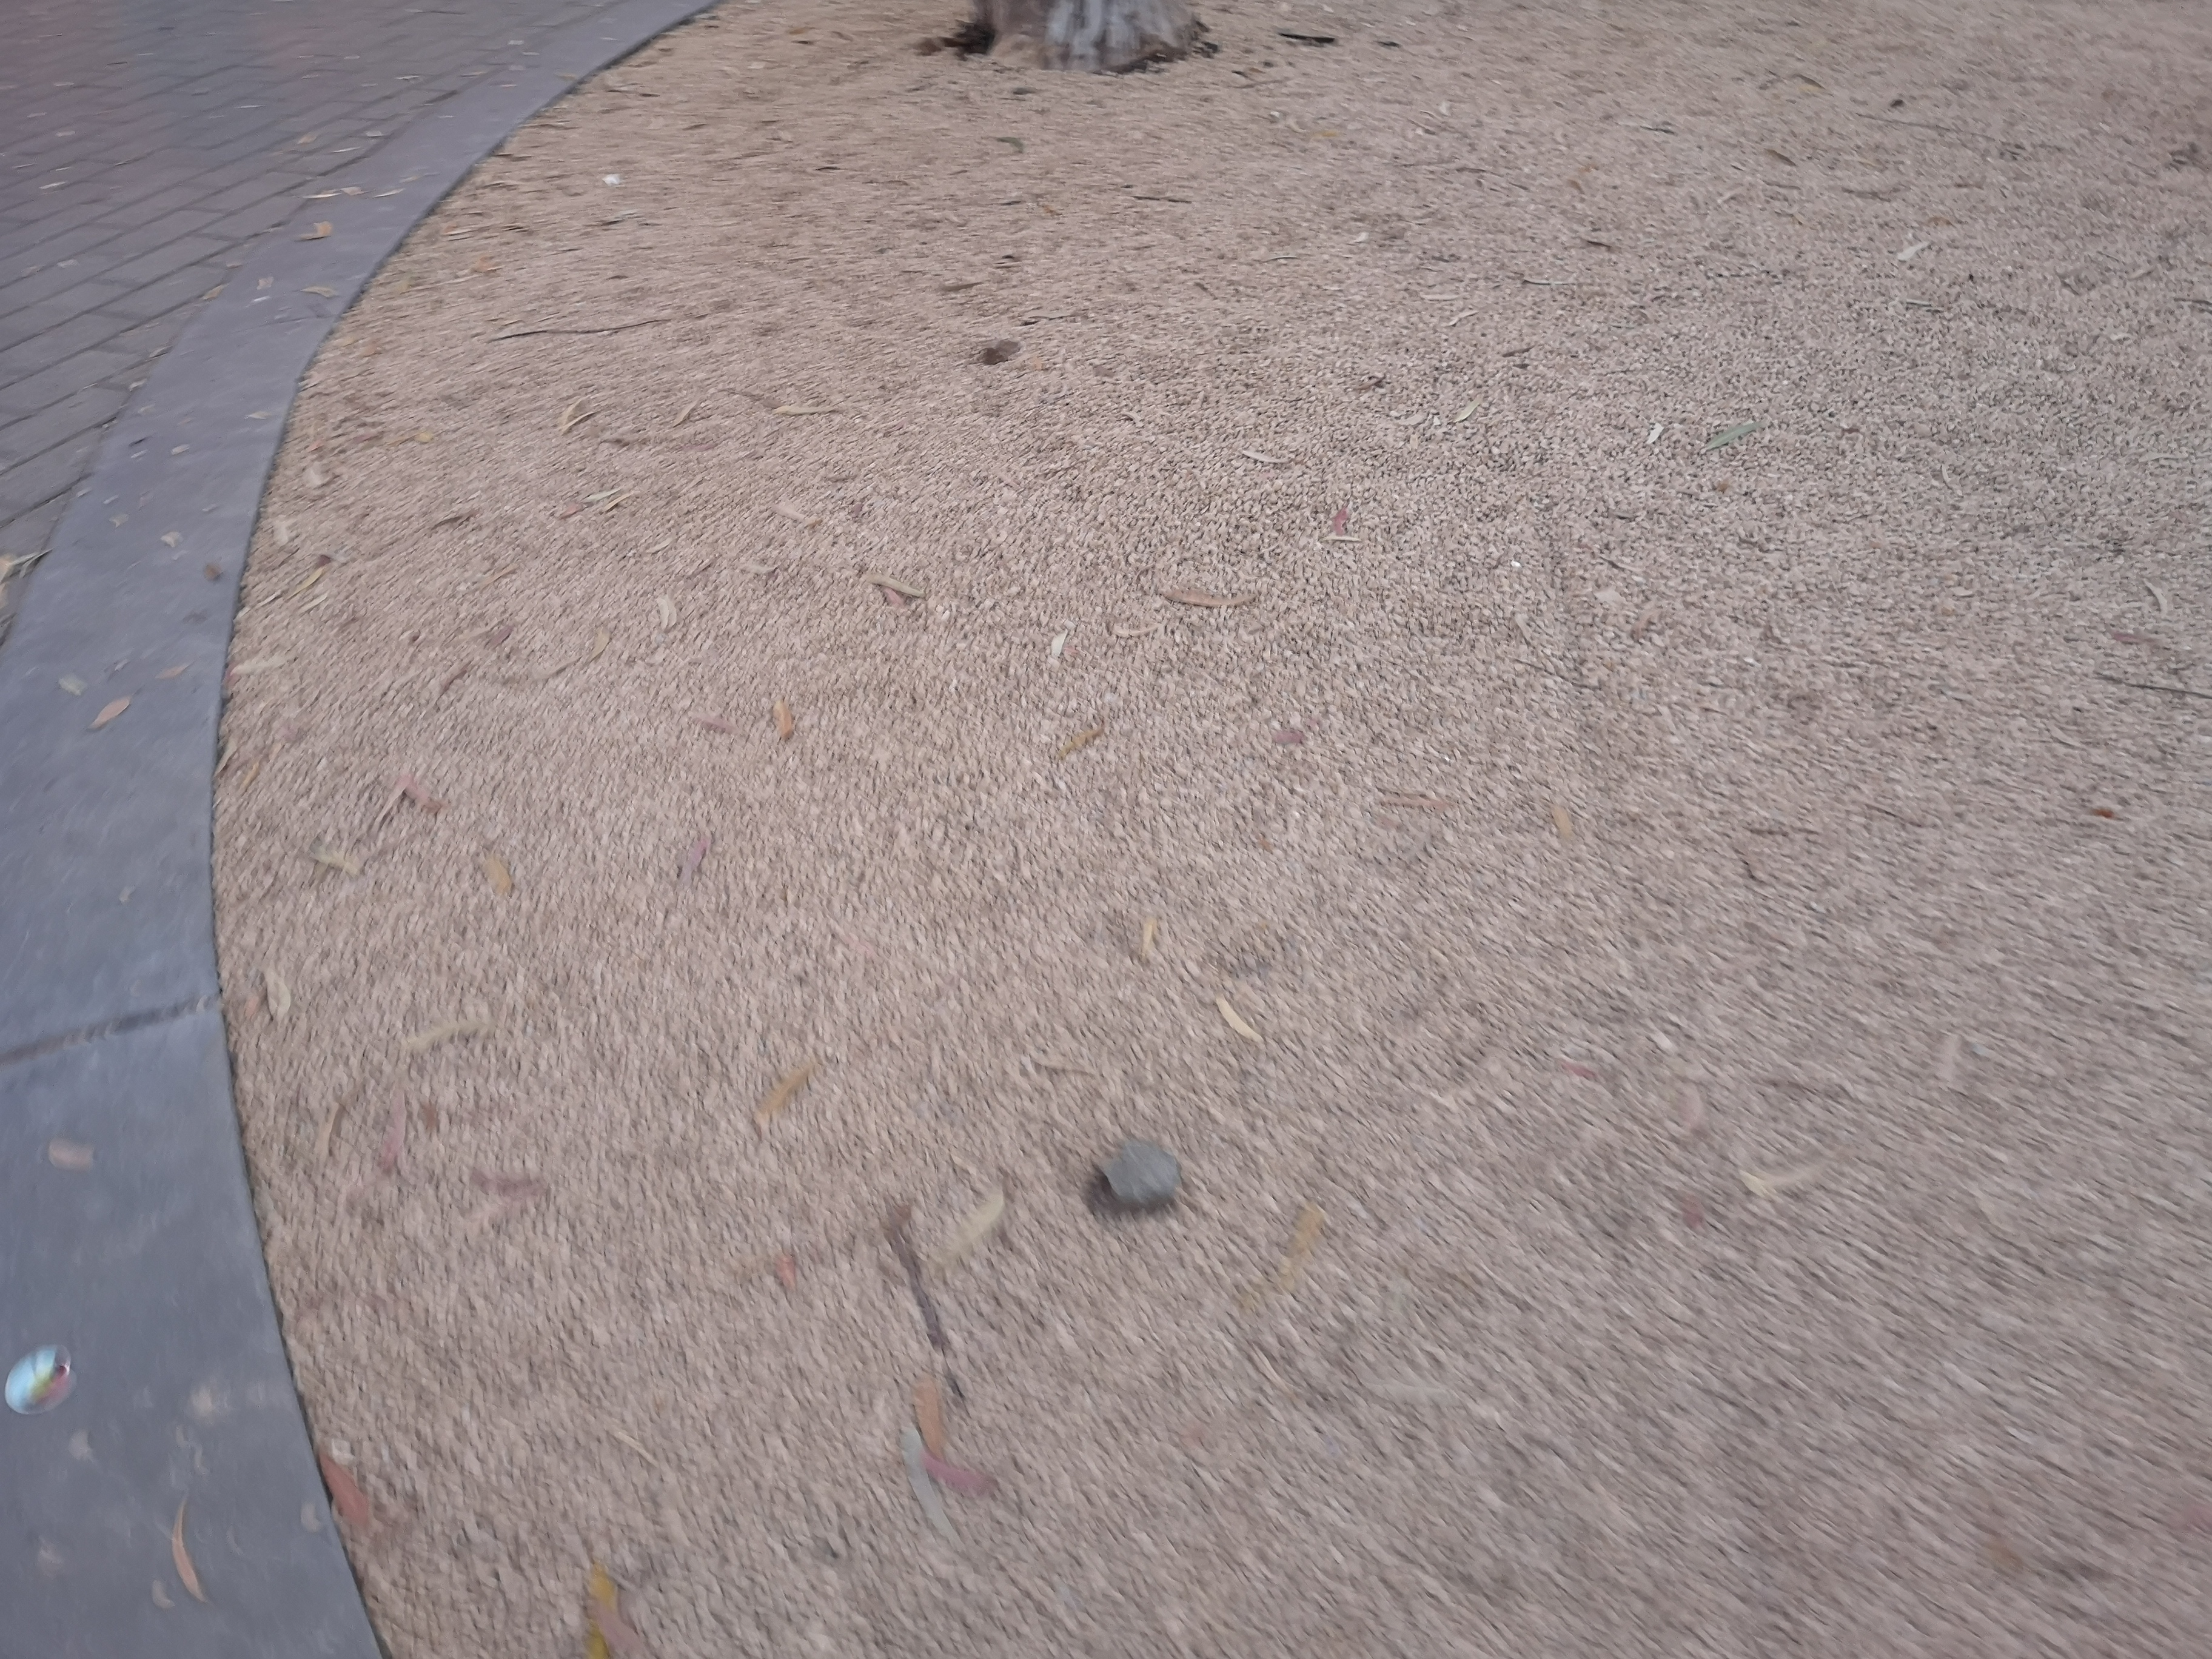Edge: (132, 240, 453, 1656), (314, 23, 735, 268)
Obstacle: (1073, 1152, 1216, 1244)
